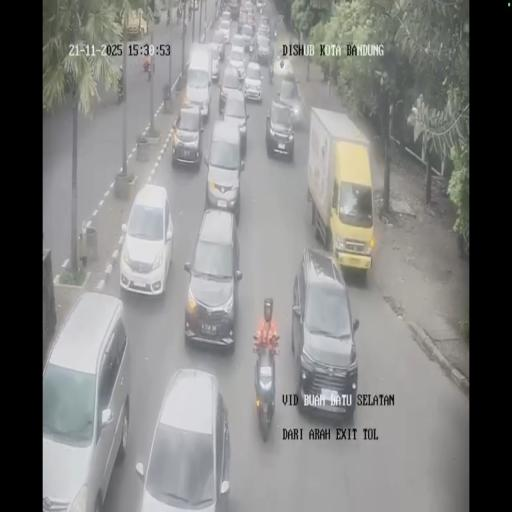car: (40, 292, 128, 509), (136, 368, 230, 510), (291, 250, 358, 420), (182, 208, 242, 350), (120, 184, 174, 297), (203, 120, 245, 218), (172, 102, 204, 168), (186, 46, 214, 120), (276, 74, 304, 130), (218, 64, 242, 114), (243, 60, 262, 102), (206, 38, 224, 76), (228, 43, 246, 75), (256, 34, 272, 64), (218, 17, 232, 46), (240, 26, 254, 54), (258, 16, 270, 39), (246, 13, 256, 30), (244, 0, 254, 13), (256, 0, 265, 13)
motorcycle: (252, 338, 279, 439), (116, 65, 124, 102), (143, 52, 153, 80), (268, 59, 274, 83), (176, 4, 182, 20), (166, 7, 171, 26), (277, 13, 283, 26), (188, 2, 192, 20), (273, 26, 277, 38)
truck: (309, 111, 375, 278), (123, 7, 148, 40), (228, 0, 240, 19)
